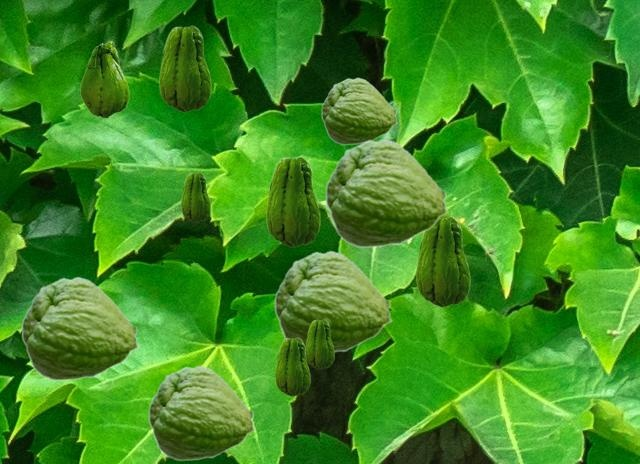sayote: (325, 138, 448, 247), (274, 250, 392, 354), (21, 276, 139, 380), (148, 365, 255, 460), (321, 77, 397, 144), (266, 156, 319, 246), (416, 216, 469, 306), (159, 25, 210, 111), (80, 41, 128, 117), (275, 337, 309, 395), (305, 319, 333, 368), (181, 172, 209, 221)
